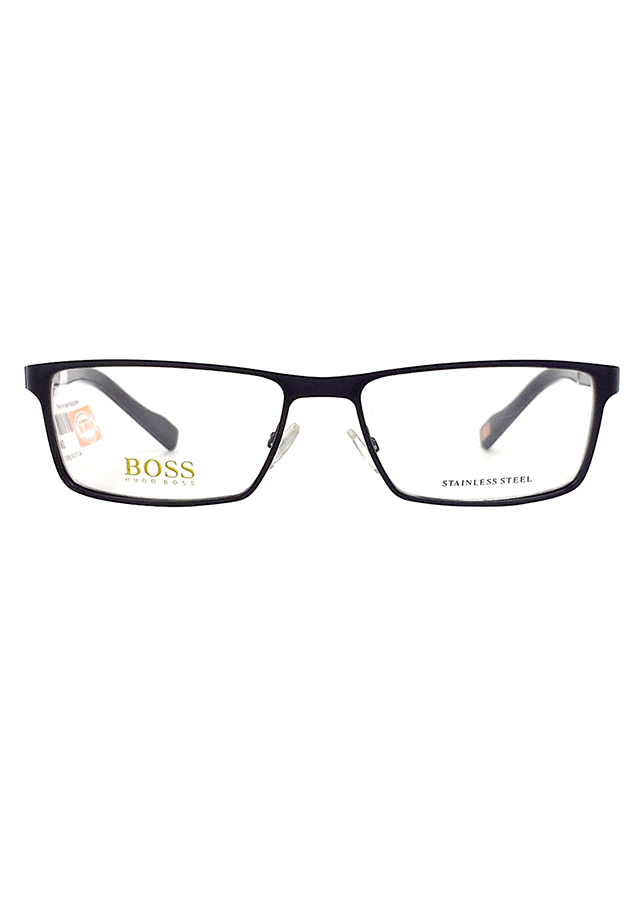Hugo Boss: (119, 455, 199, 491)
